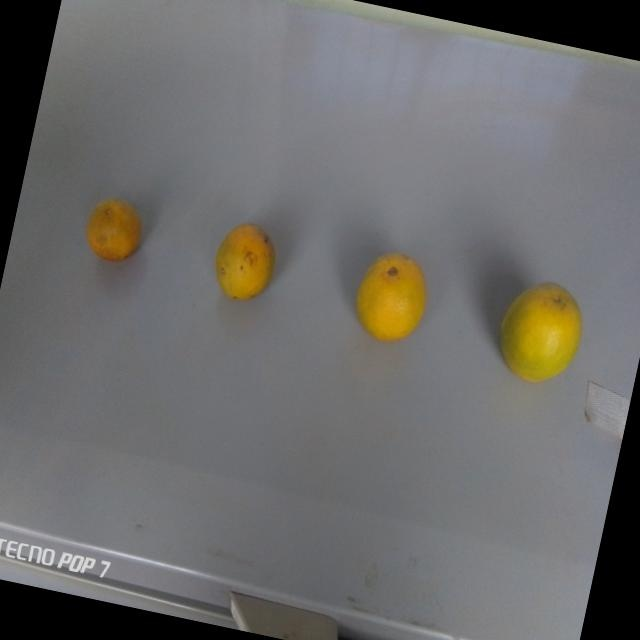agrume: (488, 271, 597, 392), (342, 242, 440, 350), (199, 205, 289, 312), (72, 178, 161, 282)
